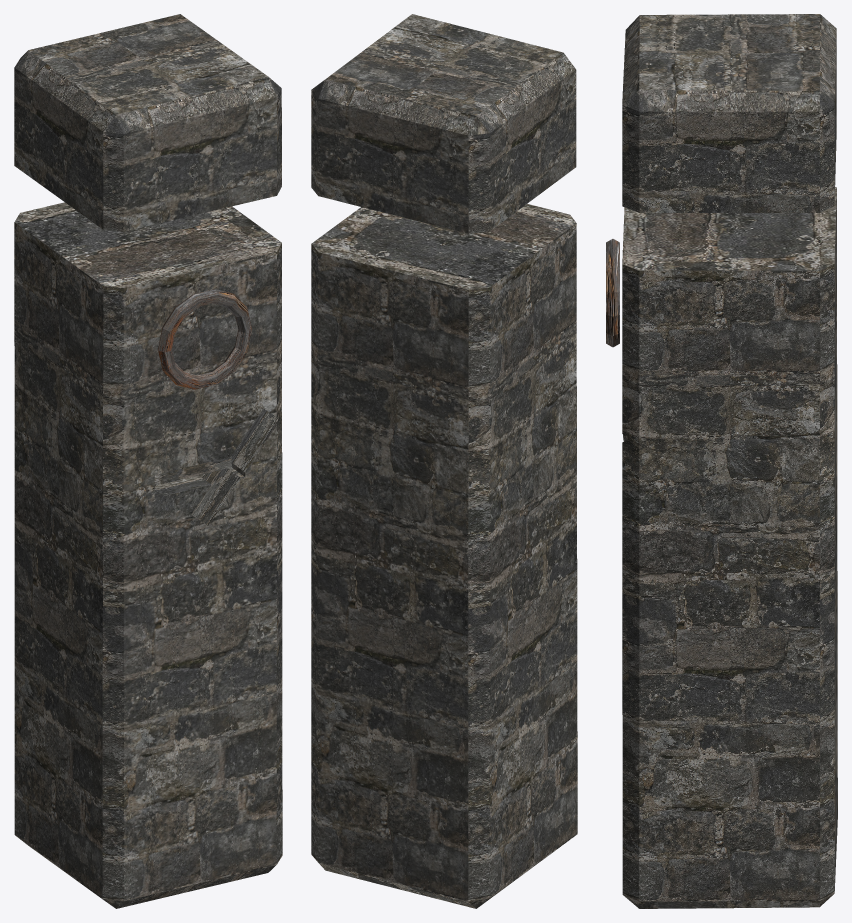
The model's file is tunnel-marker-v01.glb.
The picture shows the model from 3 angles, left to right: view 1: azimuth 30°, elevation 25°; view 2: azimuth 150°, elevation 25°; view 3: azimuth 270°, elevation 25°; orthographic projection. The views are drawn at different scales.
Visible parts, largest first — view 1: tunnel-marker; view 2: tunnel-marker; view 3: tunnel-marker.
Part boxes in pixels (x1=…): tunnel-marker: x1=14, y1=14, x2=282, y2=908; tunnel-marker: x1=311, y1=14, x2=577, y2=908; tunnel-marker: x1=606, y1=14, x2=837, y2=908.
Size of the model in its own units: 0.403 by 1.7 by 0.4366.
Materials: 2 (2 with a texture image).
